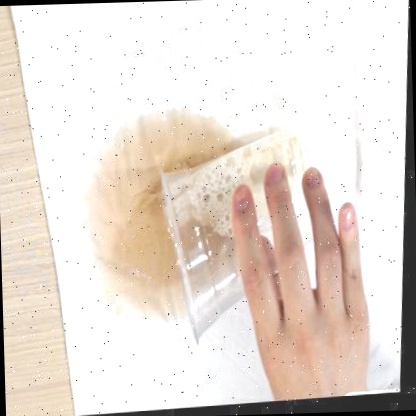coffee: (90, 172, 163, 298), (122, 121, 211, 159)
